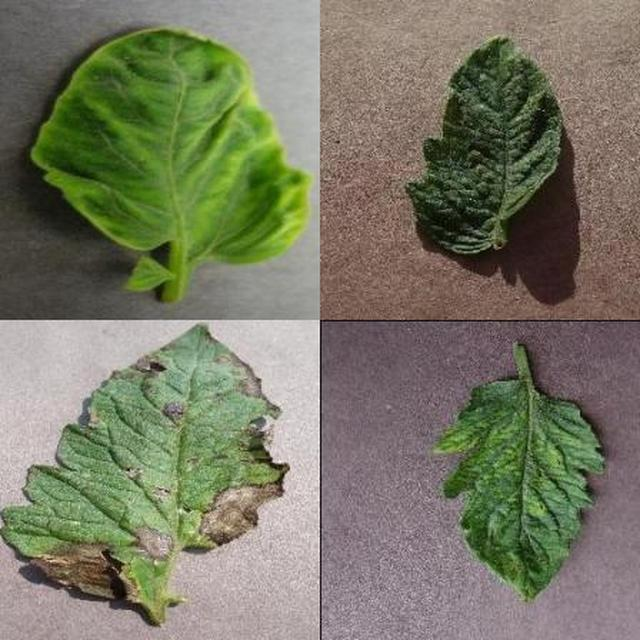Yellow Leaf Curl Virus: (207, 203, 640, 640)
